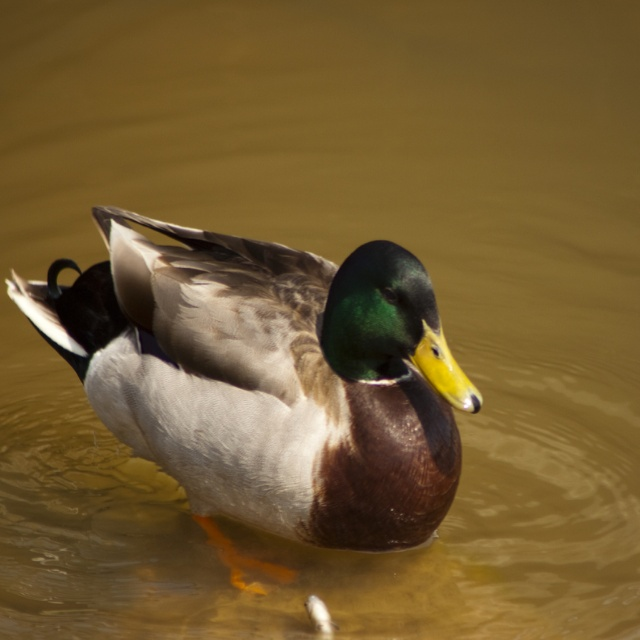Duck: (7, 198, 491, 573)
